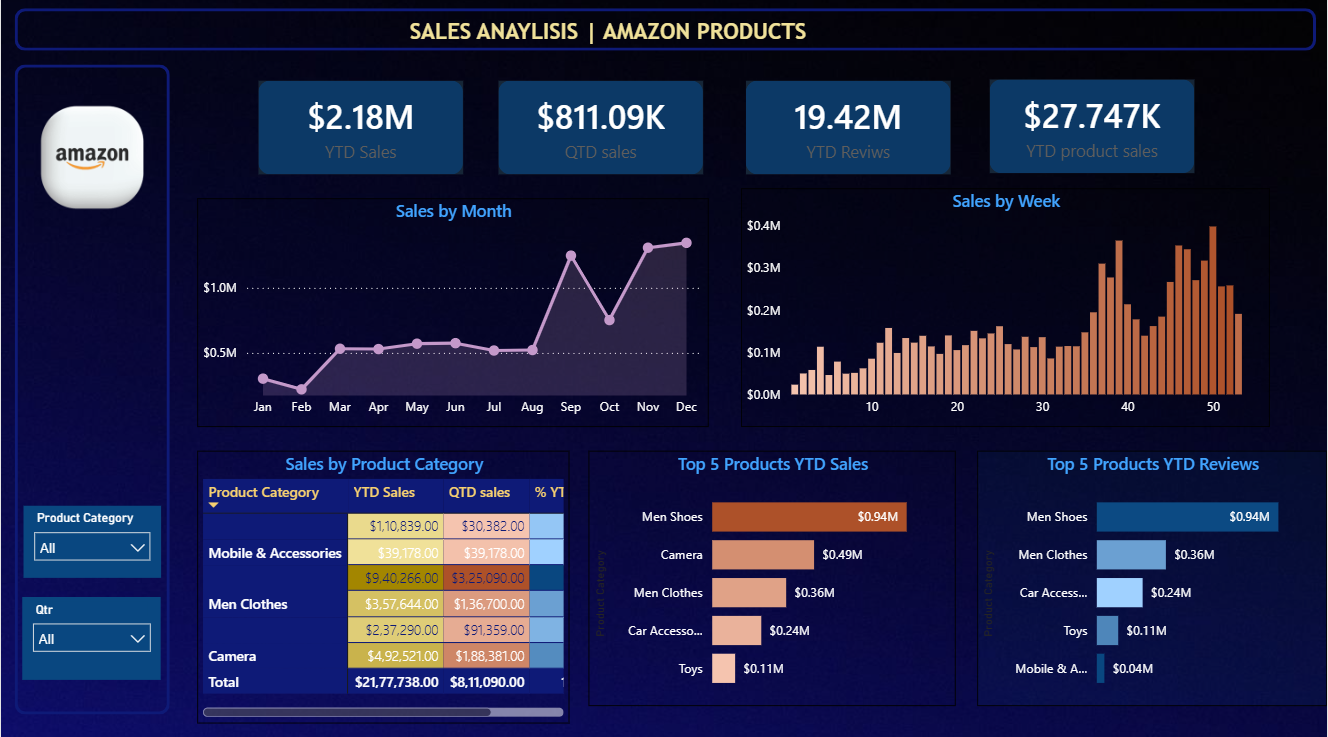

This screenshot's page, from the dashboard's own definition file:
{"tool":"powerbi","page":{"name":"Page 1","canvas":[1280,720],"ordinal":0},"visuals":[{"type":"shape","box":[13.3,10.9,1255.9,41],"z":0},{"type":"cardVisual","fields":{"Data":["Amazon_Data.YTD Sales"]},"box":[243.7,76,207.5,100.1],"z":0,"group":"g1"},{"type":"textbox","box":[321.2,16.2,530,36.2],"z":1000},{"type":"cardVisual","fields":{"Data":["Amazon_Data.QTD sales"]},"box":[475.3,76,207.5,100.1],"z":1000,"group":"g1"},{"type":"shape","box":[13.3,65.1,149.6,627.3],"z":2000},{"type":"cardVisual","fields":{"Data":["Amazon_Data.YTD Reviws"]},"box":[714.2,76,207.5,100.1],"z":2000,"group":"g1"},{"type":"cardVisual","fields":{"Data":["Amazon_Data.YTD product sales"]},"box":[949.5,74.8,207.5,100.1],"z":3000,"group":"g1"},{"type":"areaChart","title":"Sales by Month","fields":{"Y":["Sum(Amazon_Data.Price(Dollar))"],"Category":["Date Table.month name"]},"box":[189.4,194.2,493.4,220.8],"z":3000},{"type":"columnChart","title":"Sales by Week","fields":{"Category":["Date Table.Week number"],"Y":["Sum(Amazon_Data.Price(Dollar))"]},"box":[714.2,184.6,510.3,230.4],"z":4000},{"type":"pivotTable","title":"Sales by Product Category","fields":{"Rows":["Amazon_Data.Product Category"],"Values":["Amazon_Data.YTD Sales1","Amazon_Data.QTD sales","Amazon_Data.YTD Sales"]},"box":[189.4,437.9,359.5,263],"z":5000},{"type":"clusteredBarChart","title":"Top 5 Products YTD Sales","fields":{"Category":["Amazon_Data.Product Category"],"Y":["Amazon_Data.YTD Sales"]},"box":[567,437.9,354.7,246.1],"z":6000},{"type":"clusteredBarChart","title":"Top 5 Products YTD Reviews","fields":{"Category":["Amazon_Data.Product Category"],"Y":["Amazon_Data.YTD Sales"]},"box":[942.2,437.9,337.8,246.1],"z":7000},{"type":"slicer","fields":{"Values":["Amazon_Data.Product Category"]},"box":[21.7,491,132.7,70],"z":8000},{"type":"slicer","fields":{"Values":["Date Table.Qtr"]},"box":[20.5,579.1,133.9,79.6],"z":9000},{"type":"group","id":"g1","title":"Group 1","box":[243.7,74.8,913.3,101.3],"z":10000},{"type":"image","box":[13.3,76,149.6,156.8],"z":11000}]}

Visuals, with their boxes in screenshot pixels (x1, y1, x2, y2), scaled from the page's 1280x720 canvas onto the 1328x737 screenshot:
shape: x1=14, y1=11, x2=1317, y2=53
cardVisual - Amazon_Data.YTD Sales: x1=253, y1=78, x2=468, y2=180
textbox: x1=333, y1=17, x2=883, y2=54
cardVisual - Amazon_Data.QTD sales: x1=493, y1=78, x2=708, y2=180
shape: x1=14, y1=67, x2=169, y2=709
cardVisual - Amazon_Data.YTD Reviws: x1=741, y1=78, x2=956, y2=180
cardVisual - Amazon_Data.YTD product sales: x1=985, y1=77, x2=1200, y2=179
"Sales by Month" areaChart: x1=197, y1=199, x2=708, y2=425
"Sales by Week" columnChart: x1=741, y1=189, x2=1270, y2=425
"Sales by Product Category" pivotTable: x1=197, y1=448, x2=569, y2=717
"Top 5 Products YTD Sales" clusteredBarChart: x1=588, y1=448, x2=956, y2=700
"Top 5 Products YTD Reviews" clusteredBarChart: x1=978, y1=448, x2=1327, y2=700
slicer - Amazon_Data.Product Category: x1=23, y1=503, x2=160, y2=574
slicer - Date Table.Qtr: x1=21, y1=593, x2=160, y2=674
"Group 1" group: x1=253, y1=77, x2=1200, y2=180
image: x1=14, y1=78, x2=169, y2=238
